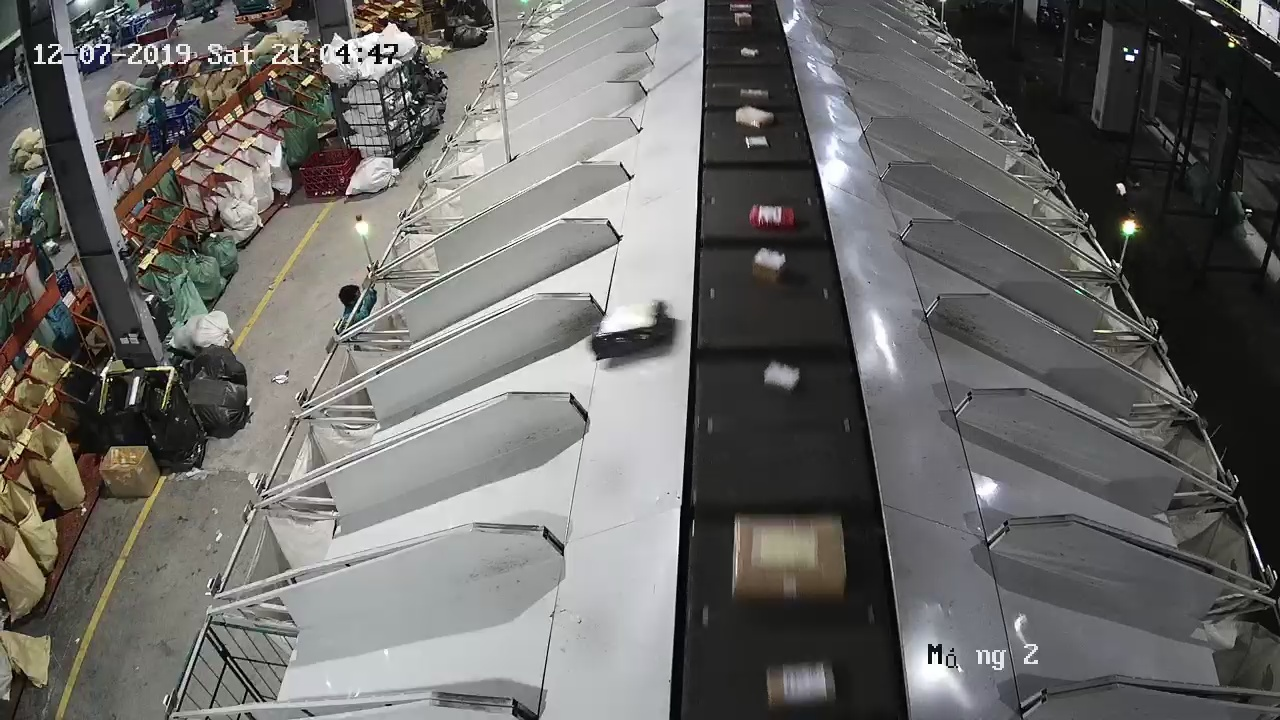parcel: (590, 298, 669, 361)
